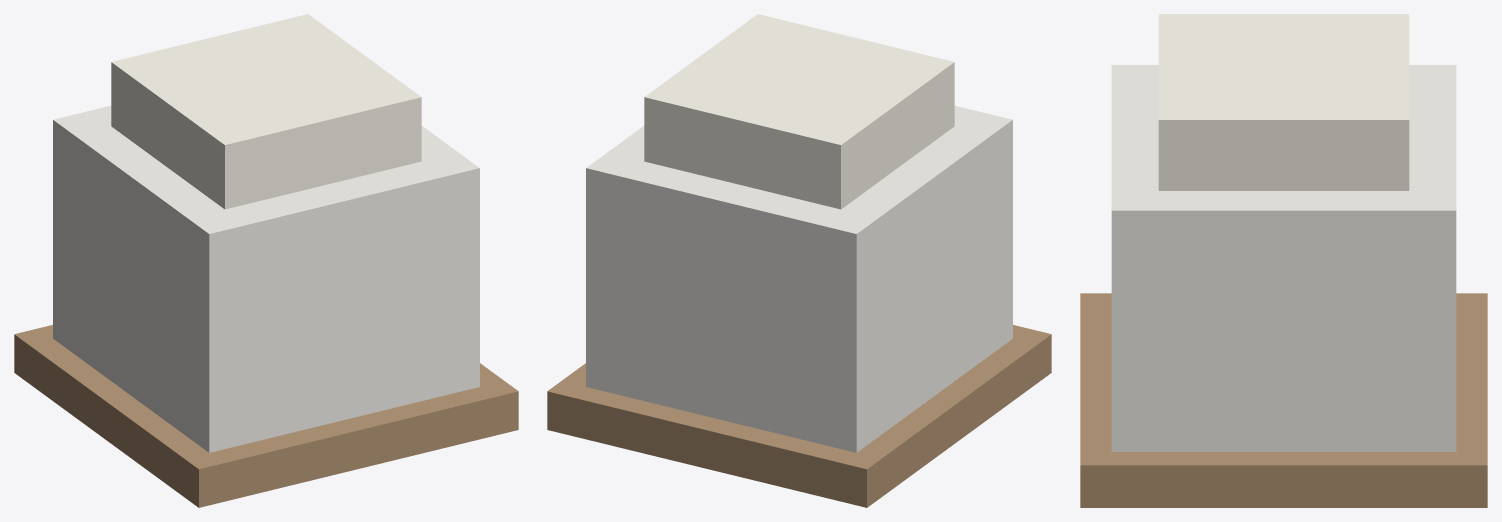
File: Item_DS_Food_Egg.glb
3 views of the same model, side by side, from view 1: azimuth 30°, elevation 25°; view 2: azimuth 150°, elevation 25°; view 3: azimuth 270°, elevation 25° (orthographic). The views are drawn at different scales.
Parts seen in each view (by area): view 1: Cube, Cube.001, Cube.002; view 2: Cube, Cube.001, Cube.002; view 3: Cube, Cube.001, Cube.002.
Boxes of the visible parts, x1,y1,x2,y2 form: Cube: (53,105,479,452); Cube.001: (111,14,421,209); Cube.002: (14,325,518,507); Cube: (586,105,1012,452); Cube.001: (644,14,954,209); Cube.002: (547,325,1051,507); Cube: (1111,65,1456,451); Cube.001: (1158,14,1409,190); Cube.002: (1080,293,1487,507).
Size of the model in its own units: 0.26 by 0.25 by 0.26.
